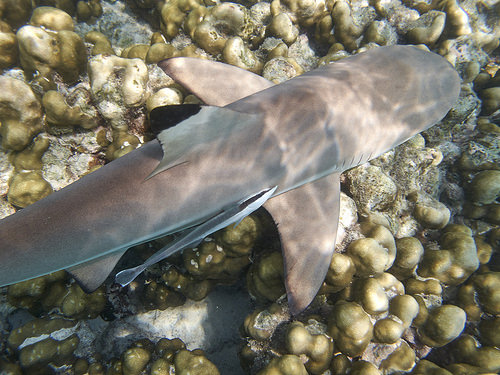shark: (5, 30, 466, 319)
